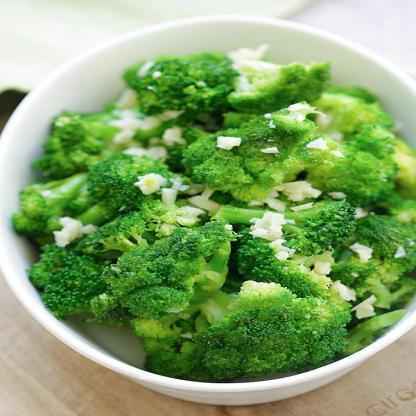broccoli: (12, 45, 416, 382)
